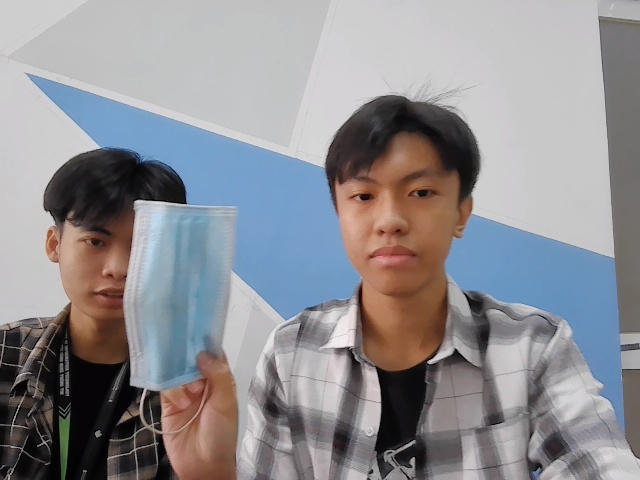human: (315, 104, 483, 287), (40, 148, 195, 318)
mask: (128, 197, 237, 386)
